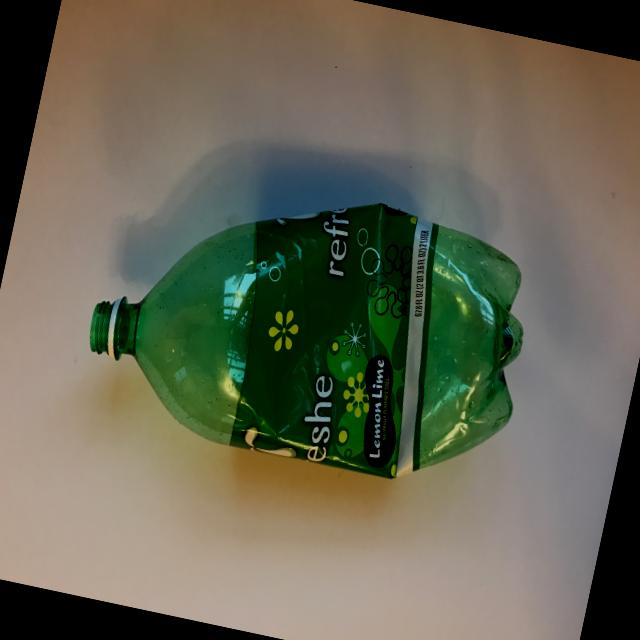Plastic: (19, 120, 620, 604)
